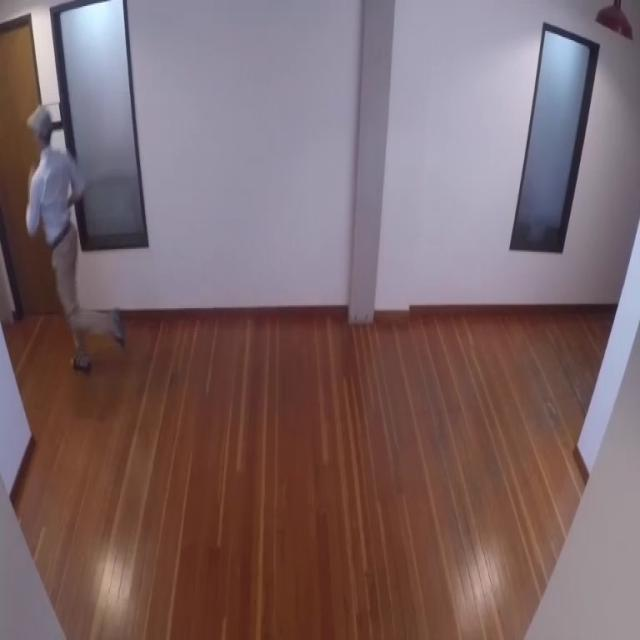Stupid: (25, 104, 124, 372)
